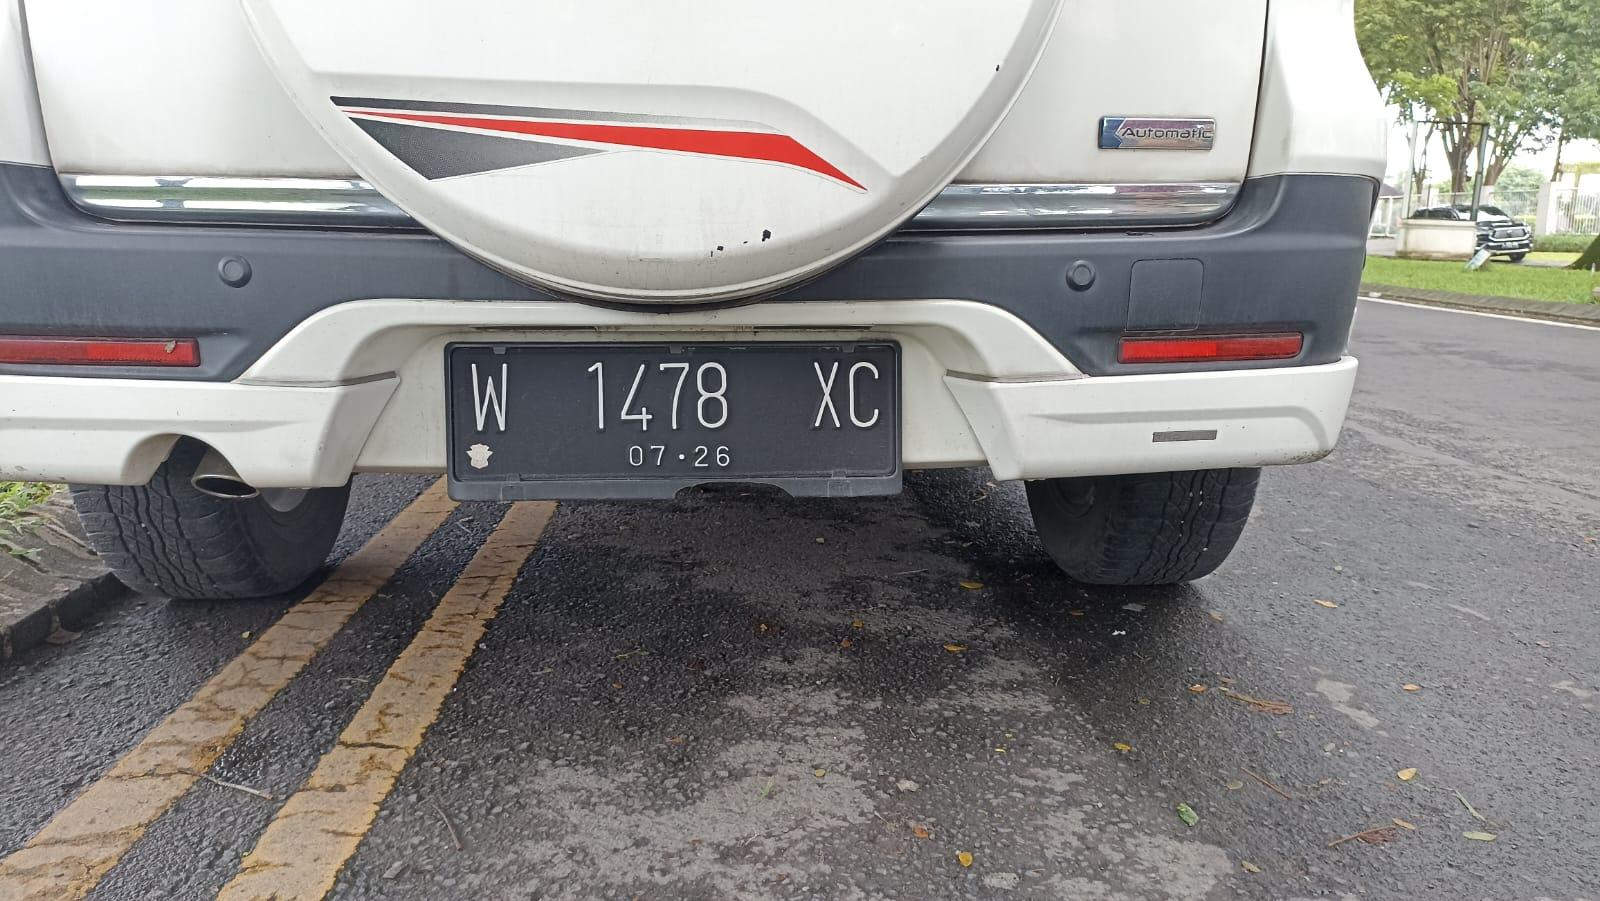plat: (447, 344, 900, 500)
